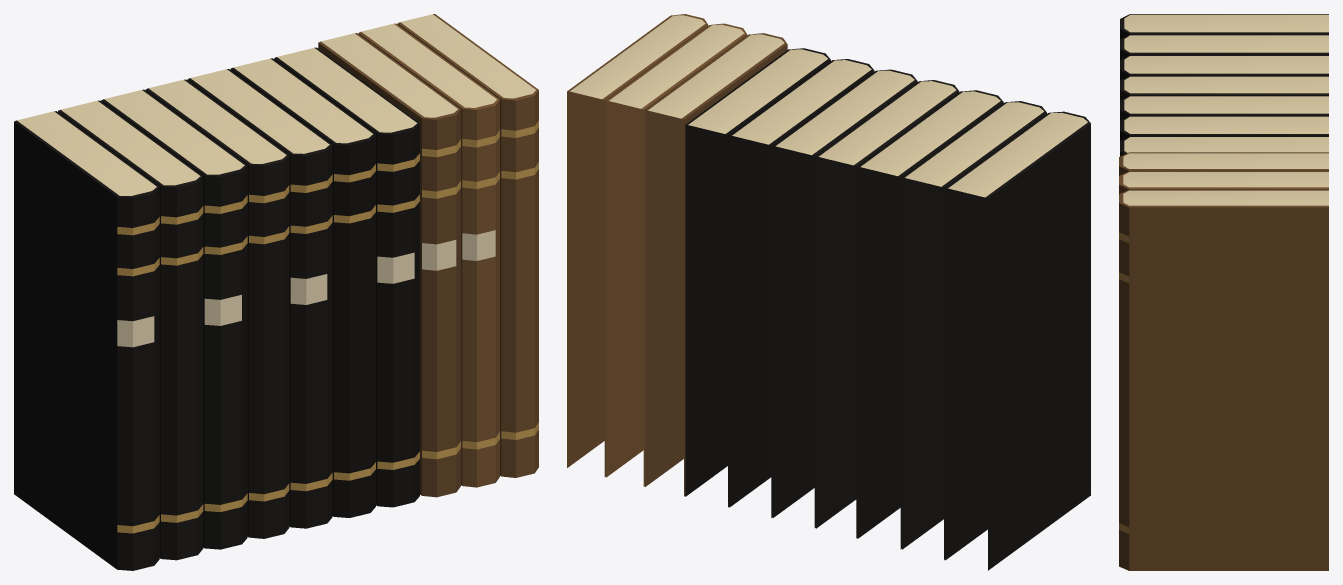
Rendered from bookrow_tall_2.glb.
3 views of the same model, side by side, from view 1: azimuth 30°, elevation 25°; view 2: azimuth 150°, elevation 25°; view 3: azimuth 270°, elevation 25° (orthographic). The views are drawn at different scales.
Parts seen in each view (by area): view 1: bookrow_tall_2; view 2: bookrow_tall_2; view 3: bookrow_tall_2.
Boxes of the visible parts, <box> form: bookrow_tall_2: <box>14,14,538,570</box>; bookrow_tall_2: <box>567,14,1090,570</box>; bookrow_tall_2: <box>1119,14,1328,570</box>.
Size of the model in its own units: 0.4831 by 0.4141 by 0.2163.
